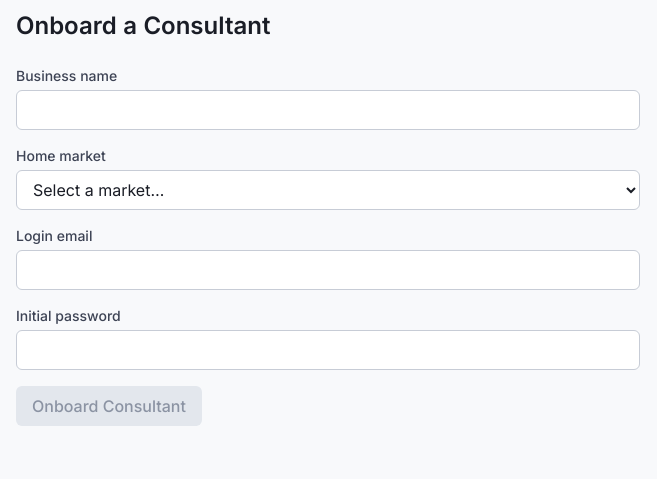
Test case: ConsultantOnboardingWizard › empty state: shows a message when a market has no configured KYC fields
Select "India" in the dropdown labelled "Home market": (328, 190) [16,170,640,210]
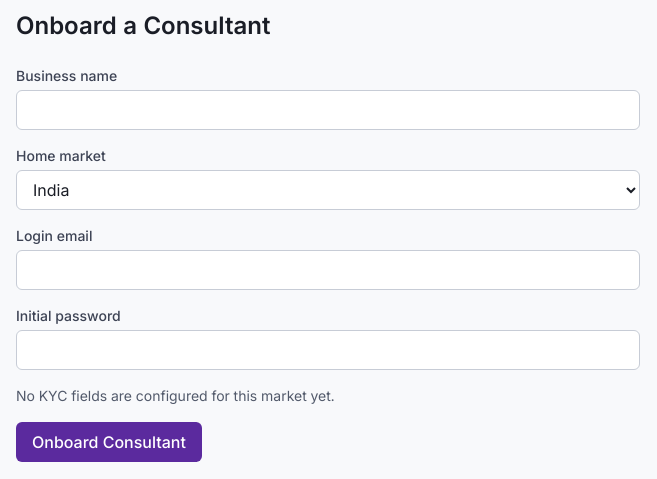
Expected: the text "No KYC fields are configured for this market yet." is shown, [16,387,335,404]
